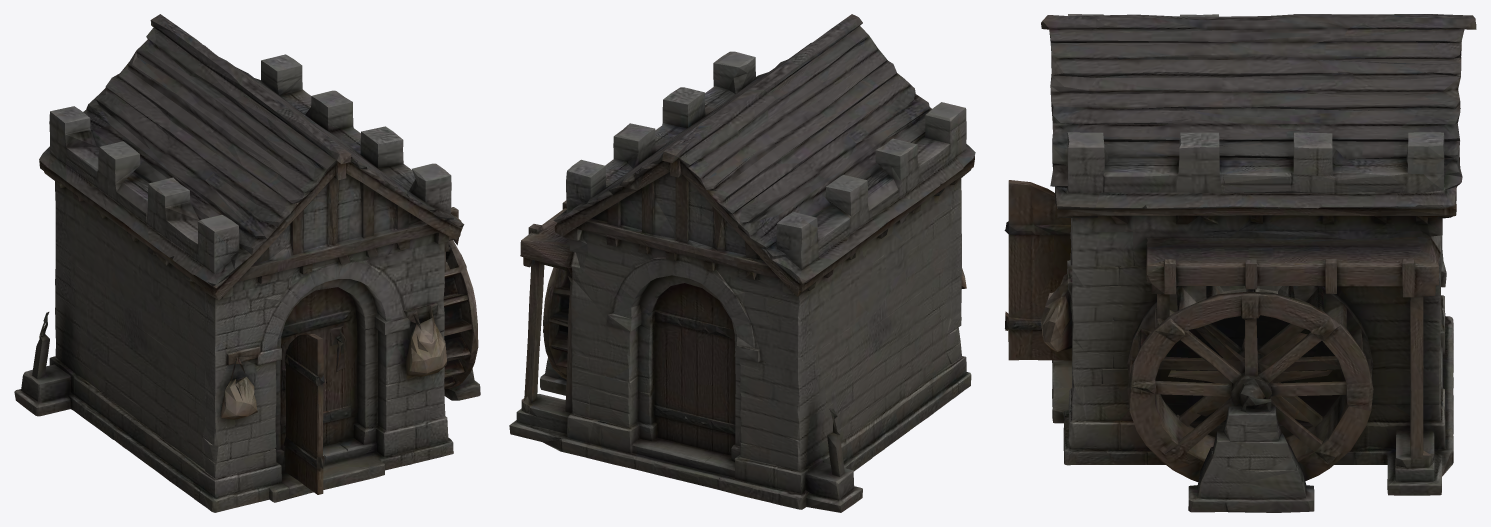
Rendered from bld_ws_mill_a_LOD0.glb.
3 renders of one model, left to right at view 1: azimuth 30°, elevation 25°; view 2: azimuth 150°, elevation 25°; view 3: azimuth 270°, elevation 25°, orthographic. The views are drawn at different scales.
Visible parts, largest first — view 1: tripo_mesh_7bf82263-1d55-4128-8f3b-f1721931317b; view 2: tripo_mesh_7bf82263-1d55-4128-8f3b-f1721931317b; view 3: tripo_mesh_7bf82263-1d55-4128-8f3b-f1721931317b.
Part boxes in pixels (bbox=[...]): tripo_mesh_7bf82263-1d55-4128-8f3b-f1721931317b: bbox=[14, 14, 480, 512]; tripo_mesh_7bf82263-1d55-4128-8f3b-f1721931317b: bbox=[509, 14, 975, 512]; tripo_mesh_7bf82263-1d55-4128-8f3b-f1721931317b: bbox=[1004, 14, 1476, 512].
Size of the model in its own units: 8.86 by 8 by 8.85.
1 material, 1 textured.
